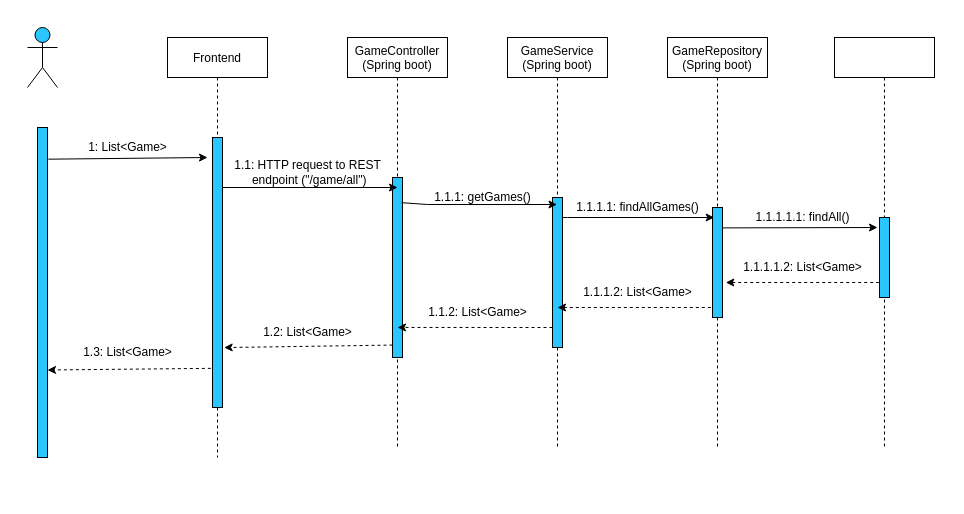
Image size: 964x514. Some labels were removed from this diagram. The box of each missing label's shape, as (x1, y1, x2, y2) in pixels:
Client User: (26, 26, 58, 88)
MySQL (Database): (834, 36, 934, 448)
